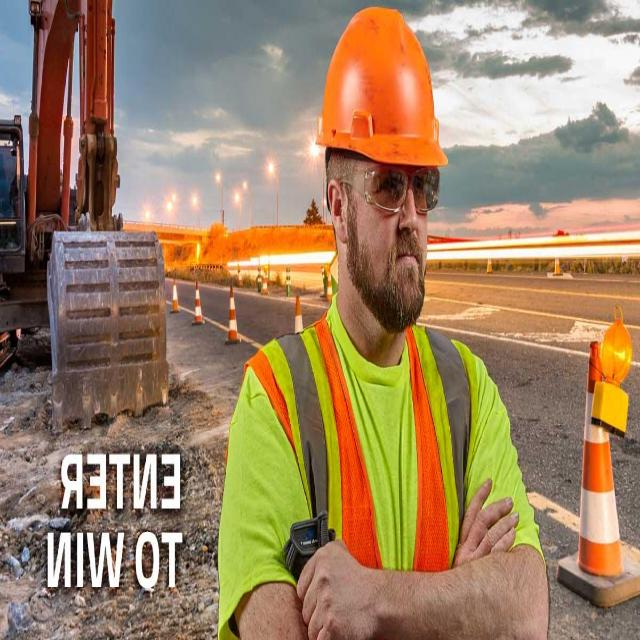Reflective-Jacket: (240, 309, 488, 633)
Safety-Helmet: (312, 3, 448, 180)
